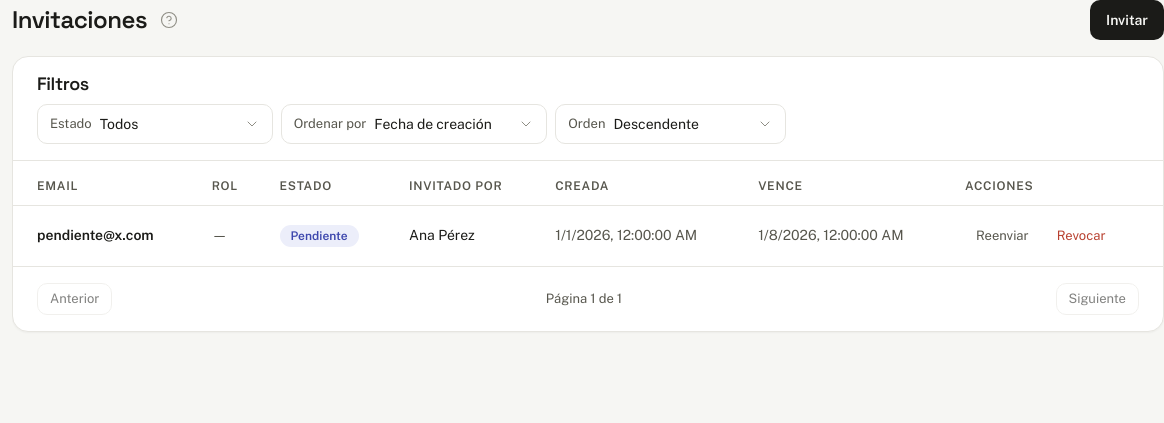
it: InvitationListPage › reenviar: si la persona ya abrió el enlace, muestra el error del backend
The width and height of the screenshot is (1164, 423).
Expected: the text "pendiente@x.com" is shown, [13,205,196,266]
Click the button "Reenviar" at (1002, 236), box [965,220,1040,252]
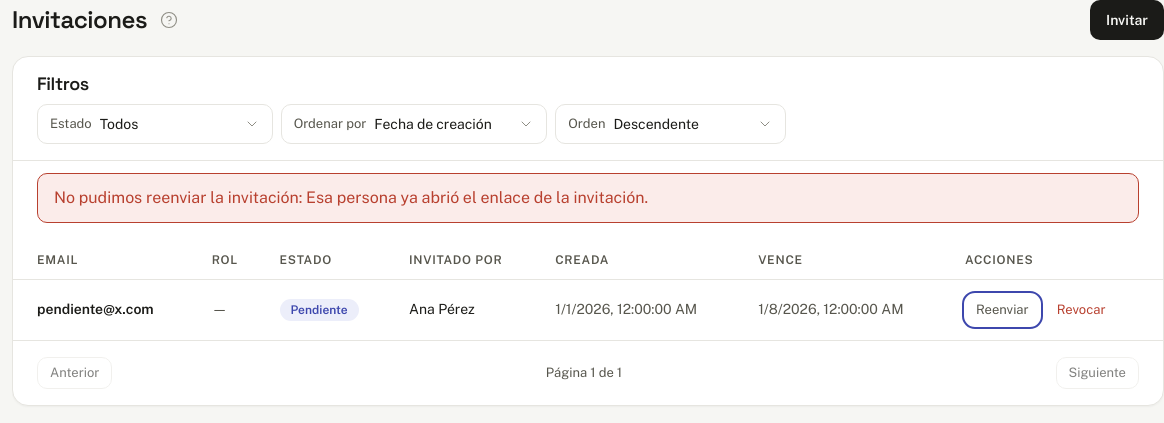
Expected: the text "No pudimos reenviar la invitación: Esa persona ya abrió el enlace de la invitación." is shown, [37,172,1139,222]
